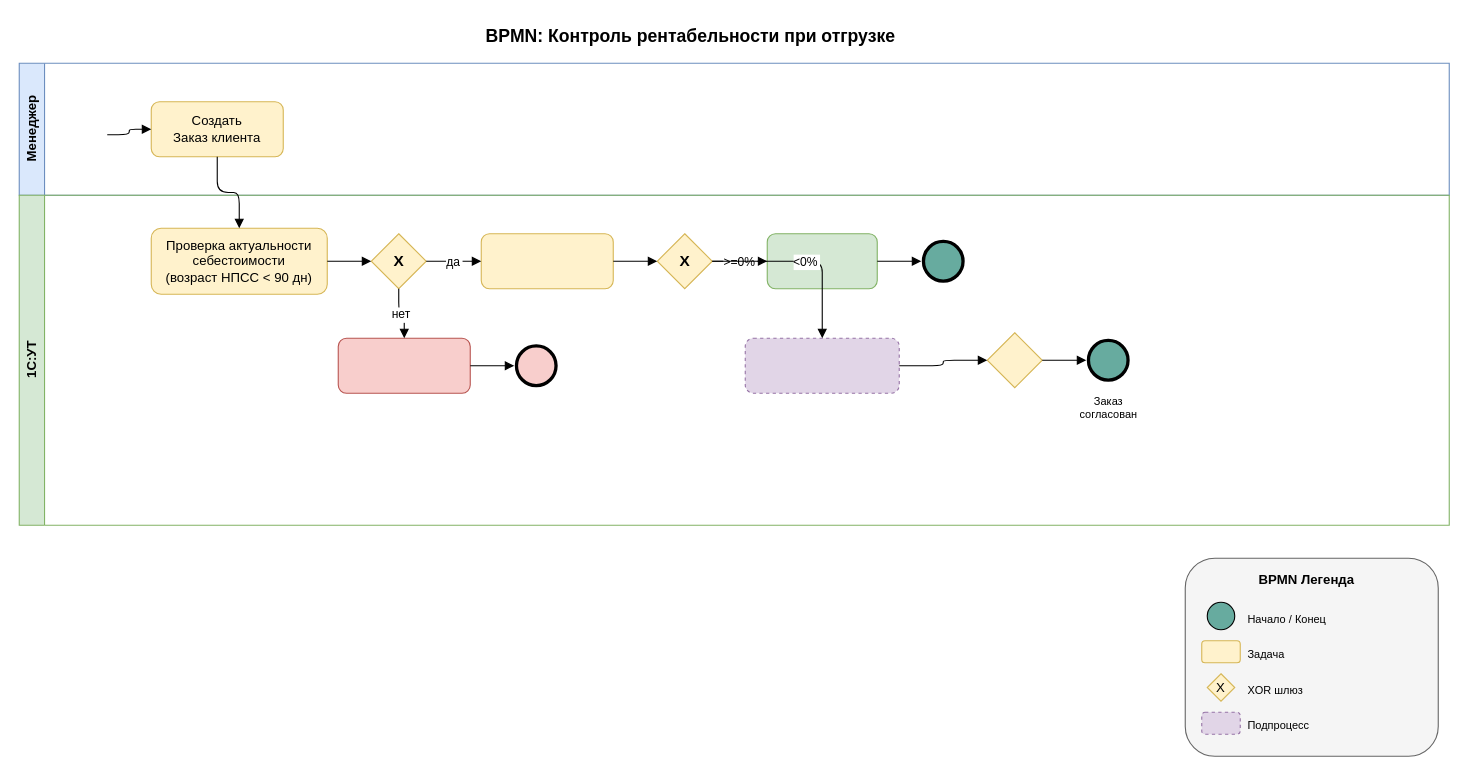
This 1469x776 diagram has some shape labels left out. Here are the shapes that lost their labels. From the top down, the centre of each, then its label:
At (546,261): "Расчет рентабельности".
At (821,261): "Авто- согласование".
At (403,365): "Блокировка (обновить НПСС)".
At (821,365): "Согласование (см. BPMN 2)".
